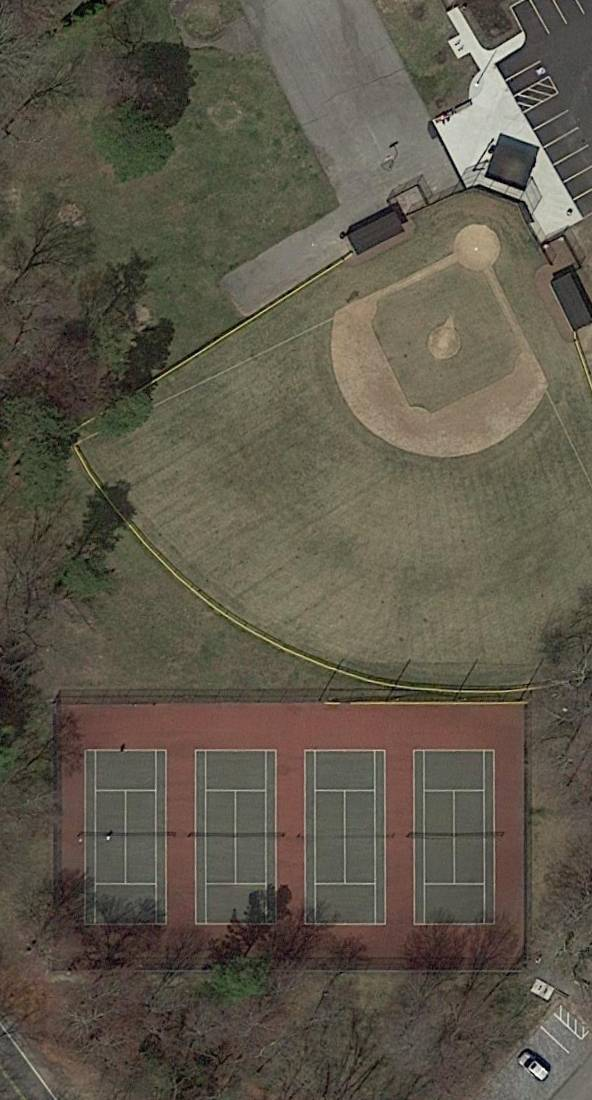baseball diamond: (306, 248, 560, 502)
small vehicle: (513, 1048, 554, 1086)
tennis court: (85, 748, 169, 926), (194, 748, 278, 925), (304, 749, 387, 927), (413, 750, 495, 927)
